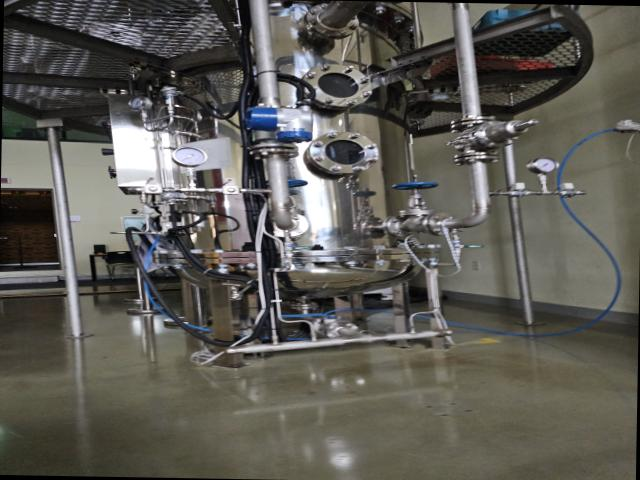Flange: (304, 130, 381, 177), (302, 63, 376, 108)
Flush Ring: (304, 2, 361, 38), (264, 211, 310, 238), (448, 115, 502, 133), (423, 212, 462, 236), (322, 318, 362, 340), (452, 149, 500, 167), (383, 215, 418, 238)
GasRegulator: (127, 84, 205, 140)
Nuts: (142, 183, 166, 196), (220, 184, 242, 196), (558, 188, 584, 198), (508, 188, 532, 198)
Piston Valve: (391, 180, 439, 216), (264, 177, 308, 215)
Pressure Gage: (170, 145, 210, 187), (526, 156, 560, 190)
